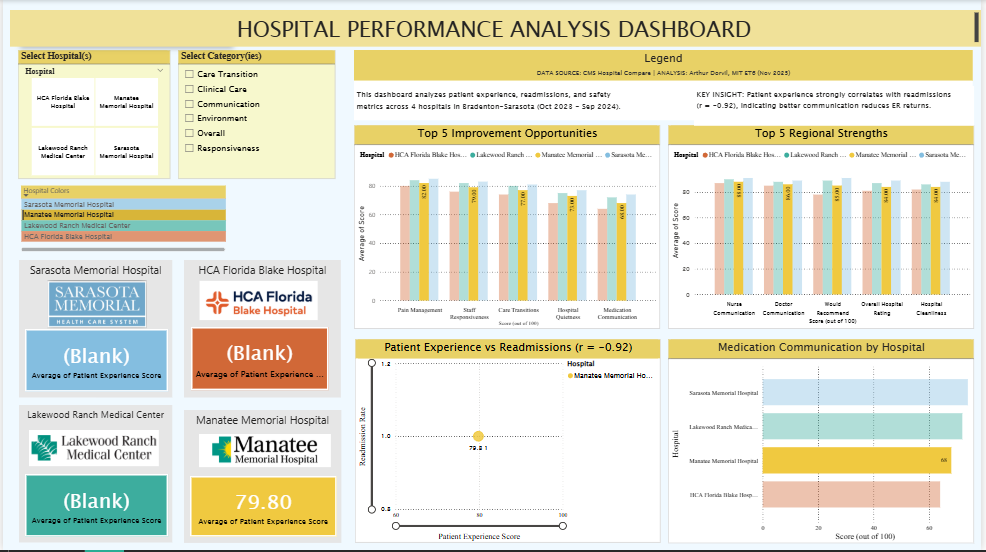

What the dashboard file says about the page in this screenshot:
{"tool":"powerbi","page":{"name":"Page 1","canvas":[1920,1080],"ordinal":0},"visuals":[{"type":"group","id":"g1","title":"Group 1","box":[356,510.3,308,270.4],"z":0,"group":"g3"},{"type":"clusteredBarChart","title":"Medication Communication by Hospital","fields":{"Category":["hospital_measures_detailed.Hospital"],"Y":["Sum(hospital_measures_detailed.Score)"]},"box":[1304.8,665.3,600.8,400.9],"z":0},{"type":"textbox","box":[31.3,795.3,301.3,270],"z":0,"group":"g5"},{"type":"textbox","box":[356,510.3,308,270.4],"z":500,"group":"g1"},{"type":"textbox","box":[31.3,510.5,301.3,270],"z":500,"group":"g2"},{"type":"textbox","box":[355.7,804.5,308.7,260.8],"z":500,"group":"g4"},{"type":"clusteredColumnChart","title":"Top 5 Regional Strengths","fields":{"Category":["hospital_measures_detailed.Measure_Name"],"Y":["Avg(hospital_measures_detailed.Score)"],"Series":["hospital_measures_detailed.Hospital"]},"box":[1304.8,246,600.8,399.9],"z":1000},{"type":"card","title":"Sarasota Memorial Hospital","fields":{"Values":["Avg(hospital_summary.Patient_Experience_Score)"]},"box":[43.7,930.3,281.1,123.5],"z":1000,"group":"g5"},{"type":"card","title":"Sarasota Memorial Hospital","fields":{"Values":["Avg(hospital_summary.Patient_Experience_Score)"]},"box":[43.7,645.5,281.1,123.5],"z":1500,"group":"g2"},{"type":"card","title":"Sarasota Memorial Hospital","fields":{"Values":["Avg(hospital_summary.Patient_Experience_Score)"]},"box":[368.4,934.9,287.9,119.3],"z":1500,"group":"g4"},{"type":"clusteredColumnChart","title":"Top 5 Improvement Opportunities","fields":{"Category":["hospital_measures_detailed.Measure_Name"],"Y":["Avg(hospital_measures_detailed.Score)"],"Series":["hospital_measures_detailed.Hospital"]},"box":[690.2,246,600.8,399.9],"z":2000},{"type":"card","title":"HCA Florida Blake Hospital","fields":{"Values":["Avg(hospital_summary.Patient_Experience_Score)"]},"box":[370,641.6,270.3,123.7],"z":3000,"group":"g3"},{"type":"scatterChart","title":"Patient Experience vs Readmissions (r = -0.92)","fields":{"X":["hospital_summary.Patient_Experience_Score"],"Y":["hospital_summary.Readmission_Rate"],"Series":["hospital_summary.Hospital"]},"box":[691.1,665.3,599.9,399.9],"z":3000},{"type":"slicer","title":"Select Hospital(s)","fields":{"Values":["hospital_summary.Hospital"]},"box":[29.5,98.6,299.5,253.4],"z":4000},{"type":"slicer","title":"Select Category(ies)","fields":{"Values":["hospital_measures_detailed.Measure_Category"]},"box":[342.8,98.6,308.7,253.4],"z":5000},{"type":"textbox","box":[29.5,47,412.8,37.8],"z":6000},{"type":"textbox","box":[13.8,20.3,1906.6,71.9],"z":7000},{"type":"group","id":"g2","title":"Group 1","box":[31.3,510.5,301.3,270],"z":8000},{"type":"group","id":"g3","title":"Group 2","box":[356,458,308,323],"z":9000},{"type":"group","id":"g4","title":"Group 3","box":[355.7,804.5,308.7,260.8],"z":10000},{"type":"textbox","title":"Legend","box":[690.2,98.6,1215.5,138.2],"z":11000},{"type":"group","id":"g5","title":"Group 4","box":[31.3,795.3,301.3,270],"z":12000},{"type":"image","box":[51.6,844.1,255.3,71],"z":12000,"group":"g5"},{"type":"tableEx","fields":{"Values":["hospital_summary.Hospital"]},"box":[29,360,413,140],"z":13000},{"type":"image","box":[381.9,458,241.8,265.8],"z":13000,"group":"g3"},{"type":"image","box":[81.5,521.1,205.5,154.8],"z":13000,"group":"g2"},{"type":"image","box":[384.3,851.5,258.9,64.5],"z":13003,"group":"g4"},{"type":"textbox","box":[1356,168,550,78],"z":14001}]}

Visuals, with their boxes in screenshot pixels (x1, y1, x2, y2), scaled from the page's 1920x1080 canvas onto the 986x552 screenshot:
"Group 1" group: <region>183, 261, 341, 399</region>
"Medication Communication by Hospital" clusteredBarChart: <region>670, 340, 979, 545</region>
textbox: <region>16, 406, 171, 544</region>
textbox: <region>183, 261, 341, 399</region>
textbox: <region>16, 261, 171, 399</region>
textbox: <region>183, 411, 341, 544</region>
"Top 5 Regional Strengths" clusteredColumnChart: <region>670, 126, 979, 330</region>
"Sarasota Memorial Hospital" card: <region>22, 475, 167, 539</region>
"Sarasota Memorial Hospital" card: <region>22, 330, 167, 393</region>
"Sarasota Memorial Hospital" card: <region>189, 478, 337, 539</region>
"Top 5 Improvement Opportunities" clusteredColumnChart: <region>354, 126, 663, 330</region>
"HCA Florida Blake Hospital" card: <region>190, 328, 329, 391</region>
"Patient Experience vs Readmissions (r = -0.92)" scatterChart: <region>355, 340, 663, 544</region>
"Select Hospital(s)" slicer: <region>15, 50, 169, 180</region>
"Select Category(ies)" slicer: <region>176, 50, 335, 180</region>
textbox: <region>15, 24, 227, 43</region>
textbox: <region>7, 10, 985, 47</region>
"Group 1" group: <region>16, 261, 171, 399</region>
"Group 2" group: <region>183, 234, 341, 399</region>
"Group 3" group: <region>183, 411, 341, 544</region>
"Legend" textbox: <region>354, 50, 979, 121</region>
"Group 4" group: <region>16, 406, 171, 544</region>
image: <region>26, 431, 158, 468</region>
tableEx - hospital_summary.Hospital: <region>15, 184, 227, 256</region>
image: <region>196, 234, 320, 370</region>
image: <region>42, 266, 147, 345</region>
image: <region>197, 435, 330, 468</region>
textbox: <region>696, 86, 979, 126</region>
